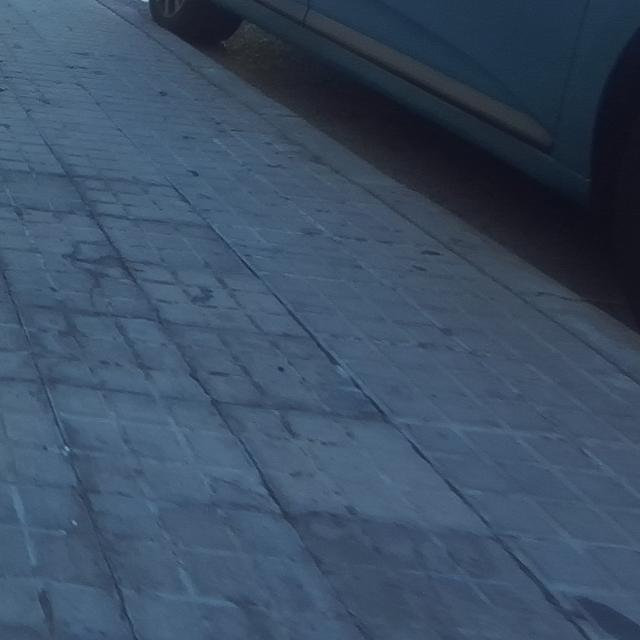calcada_quebrada: (61, 236, 111, 314)
